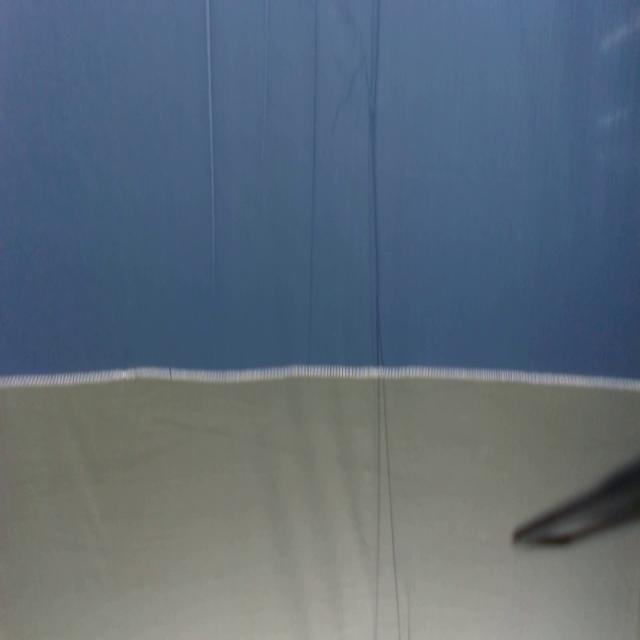crease: (373, 382, 408, 640), (362, 0, 386, 367), (304, 0, 322, 334), (204, 0, 217, 259), (261, 0, 275, 141)
